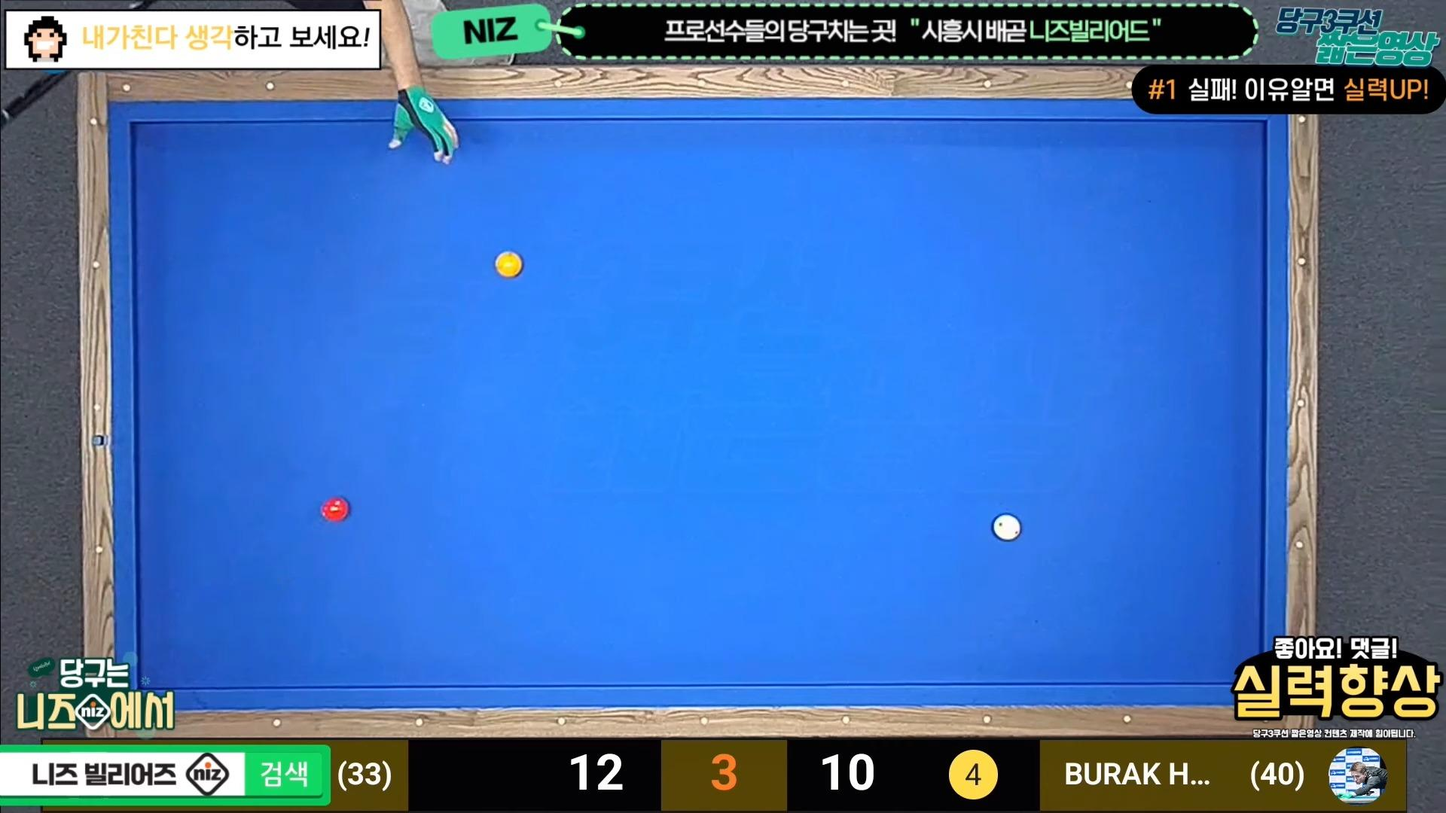-billiard-ball: (493, 250, 523, 279), (991, 513, 1020, 542)
Red: (319, 497, 353, 522)
White: (992, 516, 1027, 543)
Yellow: (491, 251, 525, 281)
